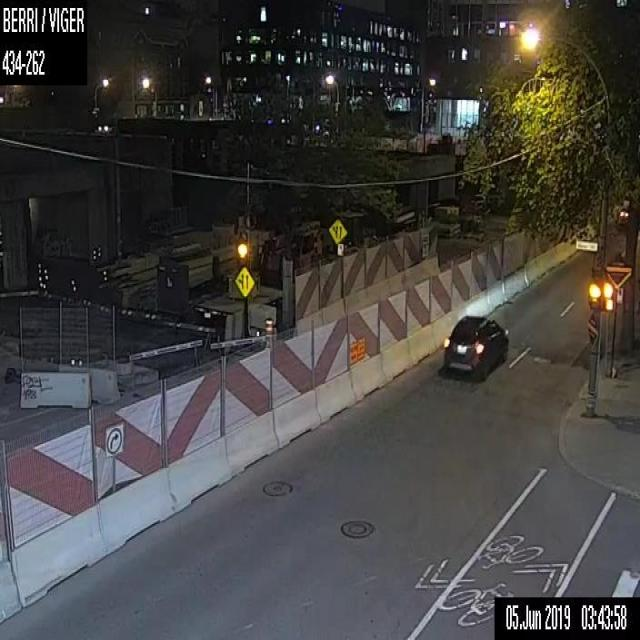construction: (0, 118, 578, 626), (264, 316, 273, 336)
vehicle: (439, 309, 510, 382)
